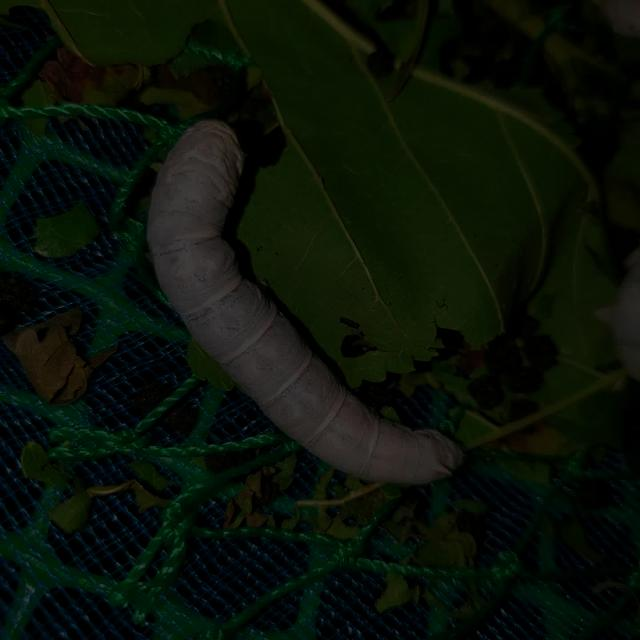Healthy: (139, 107, 473, 496)
